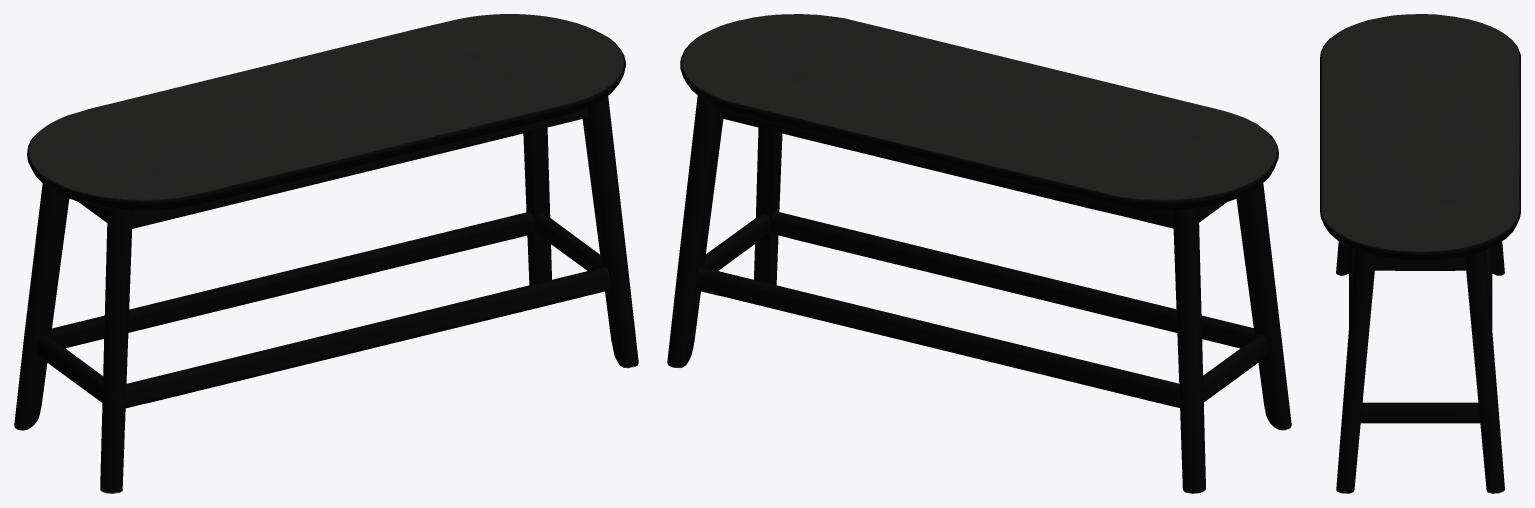
3 renders of one model, left to right at view 1: azimuth 30°, elevation 25°; view 2: azimuth 150°, elevation 25°; view 3: azimuth 270°, elevation 25°, orthographic. The views are drawn at different scales.
Visible parts, largest first — view 1: ASY_ART_00607895_S01_NV01; view 2: ASY_ART_00607895_S01_NV01; view 3: ASY_ART_00607895_S01_NV01.
Part boxes in pixels (x1,y1,x2,y2): ASY_ART_00607895_S01_NV01: (14, 14, 638, 493); ASY_ART_00607895_S01_NV01: (667, 14, 1291, 493); ASY_ART_00607895_S01_NV01: (1320, 14, 1520, 493).
Size of the model in its own units: 0.9294 by 0.4503 by 0.3302.
Materials: 1 (1 with a texture image).
